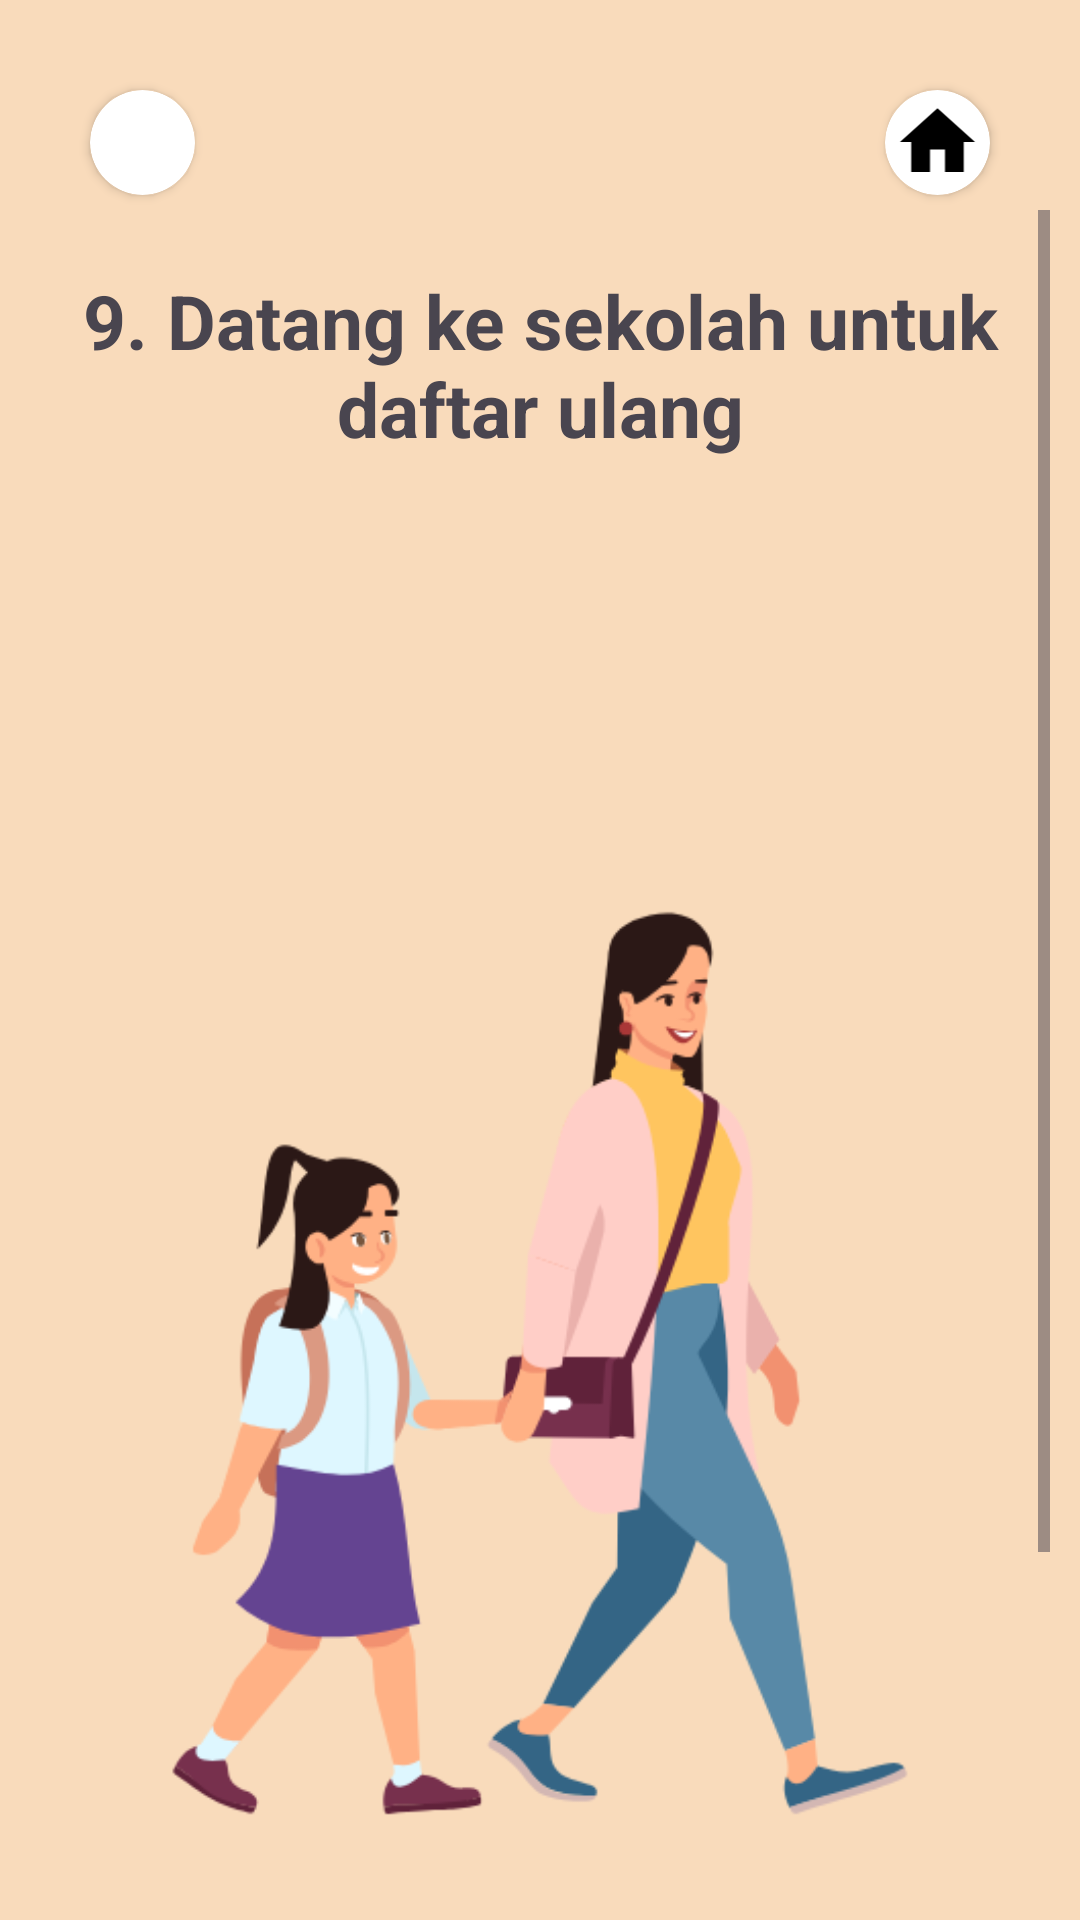

Named icons in this screenshot (1080*1920) and their bounding boxes, (x1, y1, x2, y2):
home: (885, 97, 990, 187)
